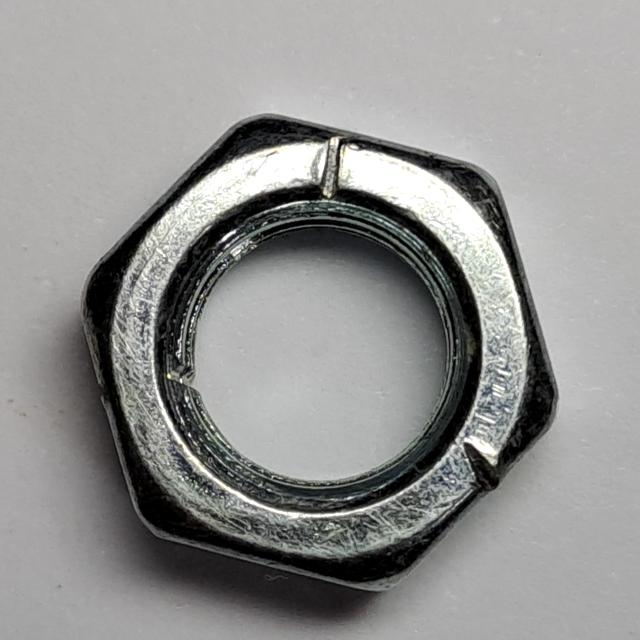Scratches: (62, 96, 569, 606)
